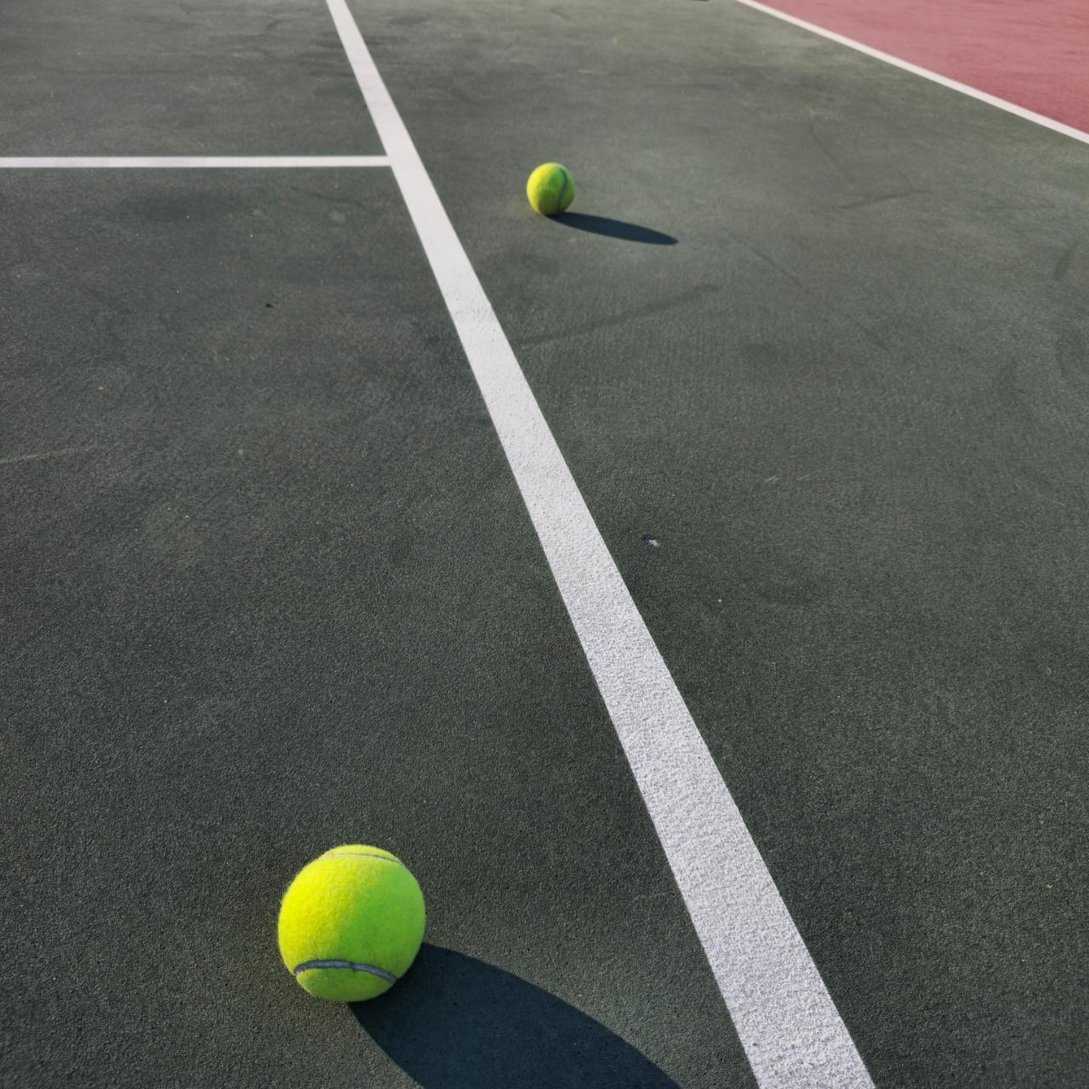tennis-ball: (274, 840, 428, 1004), (527, 162, 576, 217)
